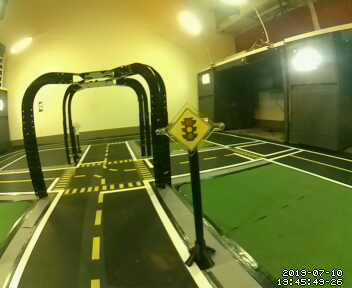Traffic light sign: (169, 107, 211, 153)
